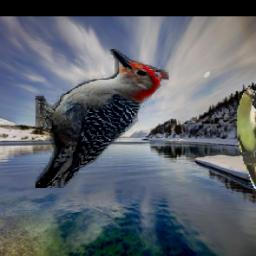Cuckoo: (236, 88, 256, 210)
Woodpecker: (34, 50, 168, 189)
